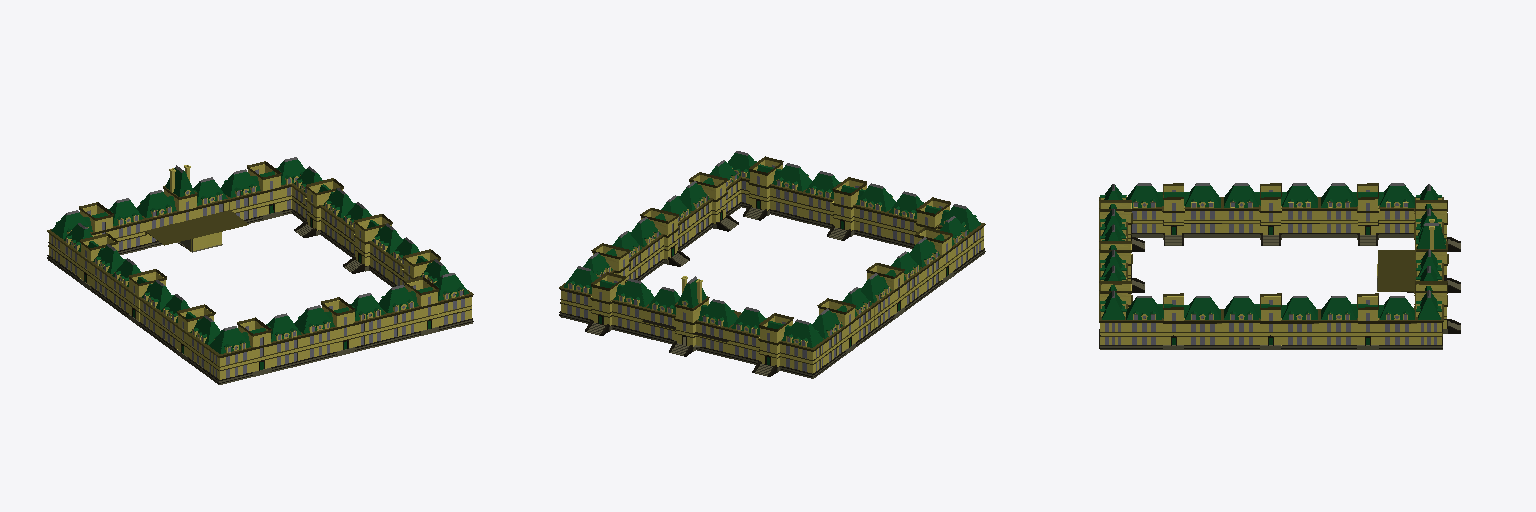
3 renders of one model, left to right at view 1: azimuth 30°, elevation 25°; view 2: azimuth 150°, elevation 25°; view 3: azimuth 270°, elevation 25°, orthographic.
Parts seen in each view (by area): view 1: SM_Palace.004; view 2: SM_Palace.004; view 3: SM_Palace.004.
Part boxes in pixels (left/top/right/bottom): SM_Palace.004: left=47, top=157, right=473, bottom=384; SM_Palace.004: left=559, top=151, right=985, bottom=378; SM_Palace.004: left=1099, top=183, right=1460, bottom=349.
Bounding box in the file's own units: 153 × 37.39 × 189.